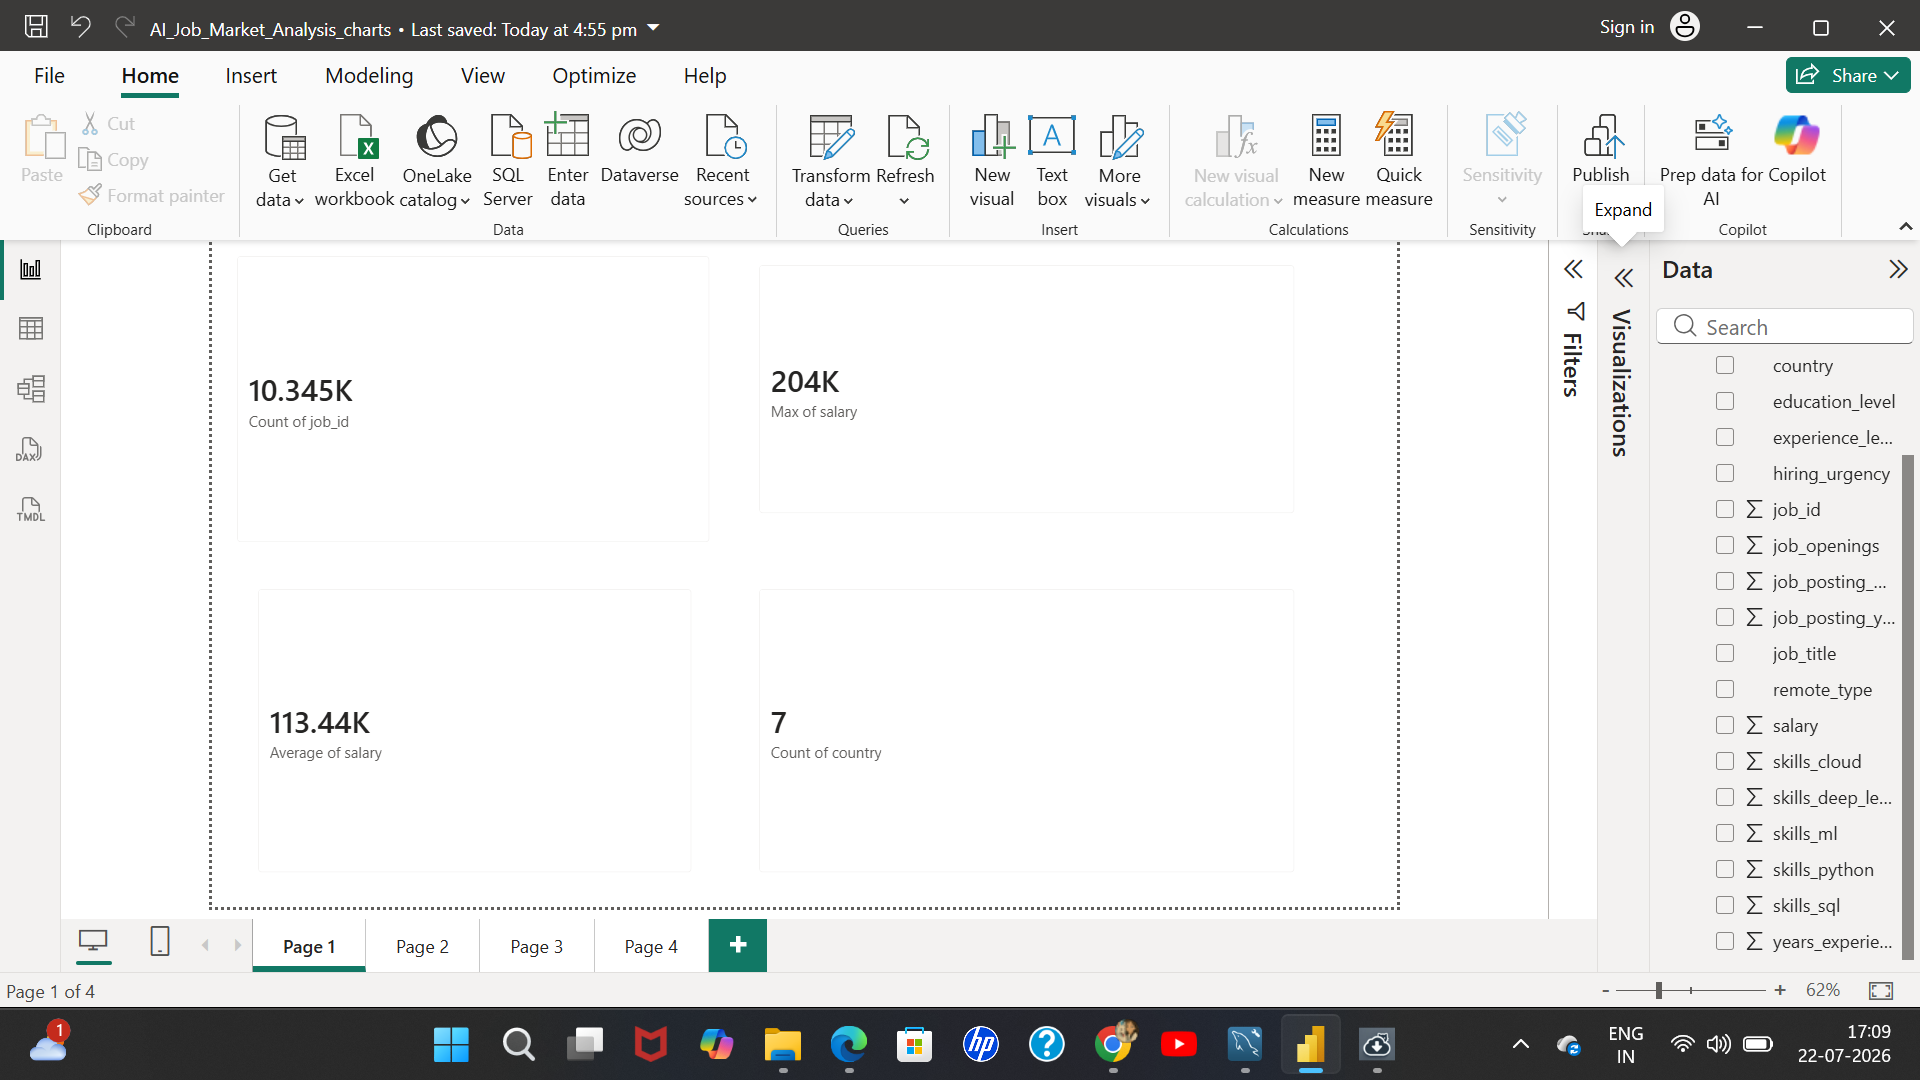

What the dashboard file says about the page in this screenshot:
{"tool":"powerbi","page":{"name":"Page 1","canvas":[1280,720],"ordinal":0},"visuals":[{"type":"cardVisual","fields":{"Data":["CountNonNull(AI Job Market Dataset.job_id)"]},"box":[9.4,0,544.3,343.9],"z":0},{"type":"cardVisual","fields":{"Data":["Avg(AI Job Market Dataset.salary)"]},"box":[32.1,359.1,502.7,340.2],"z":1},{"type":"cardVisual","fields":{"Data":["Max(AI Job Market Dataset.salary)"]},"box":[572.6,9.4,612.3,302.4],"z":2},{"type":"cardVisual","fields":{"Data":["Count(AI Job Market Dataset.country)"]},"box":[573,359,612,340],"z":3}]}

Visuals, with their boxes on the page's 1280x720 design canvas (x1, y1, x2, y2). These are canvas units, not pixel positions in the 1920x1080 screenshot, which may show the page scaled, cropped or inside an application window:
cardVisual - CountNonNull(AI Job Market Dataset.job_id): bbox=(9, 0, 554, 344)
cardVisual - Avg(AI Job Market Dataset.salary): bbox=(32, 359, 535, 699)
cardVisual - Max(AI Job Market Dataset.salary): bbox=(573, 9, 1185, 312)
cardVisual - Count(AI Job Market Dataset.country): bbox=(573, 359, 1185, 699)
